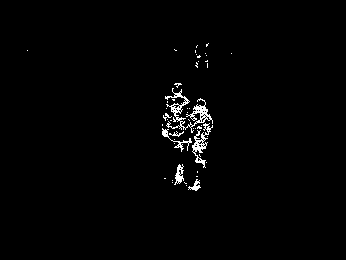person: (162, 79, 191, 184), (187, 96, 215, 195)
